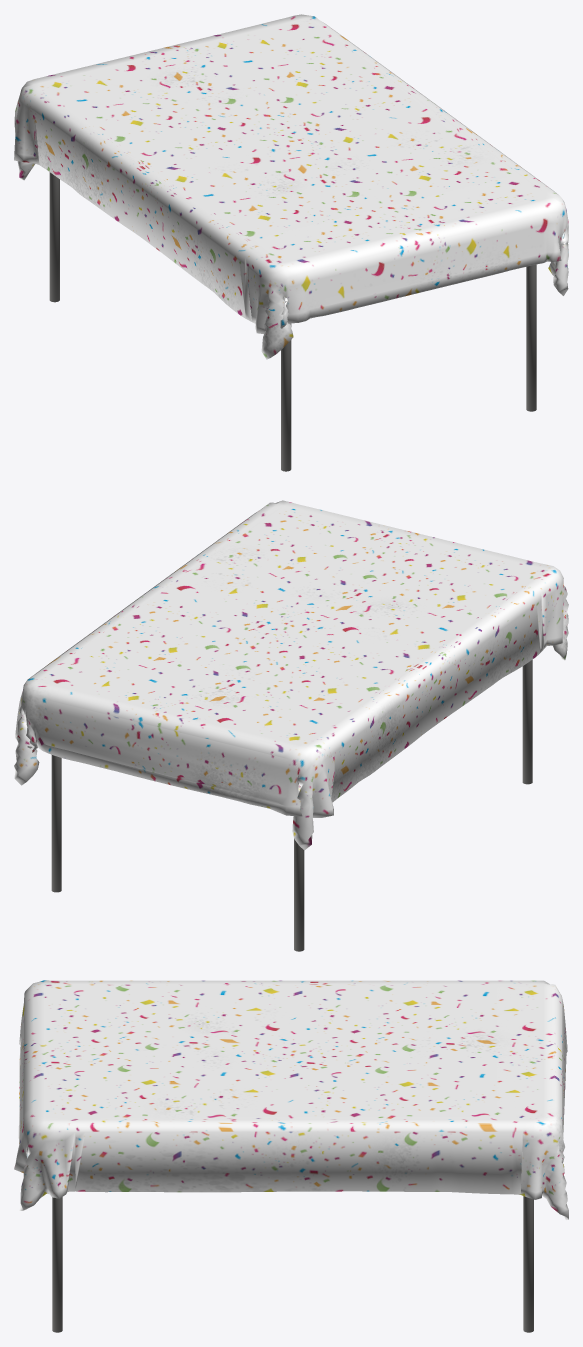
The model's file is table_fnaf.glb.
3 renders of one model, top to bottom at view 1: azimuth 30°, elevation 25°; view 2: azimuth 150°, elevation 25°; view 3: azimuth 270°, elevation 25°, orthographic. The views are drawn at different scales.
Visible parts, largest first — view 1: FNAF Table_FNAF Table Mat_0_4; view 2: FNAF Table_FNAF Table Mat_0_4; view 3: FNAF Table_FNAF Table Mat_0_4.
Boxes of the visible parts, <box> form: FNAF Table_FNAF Table Mat_0_4: <box>14,14,568,471</box>; FNAF Table_FNAF Table Mat_0_4: <box>14,500,568,951</box>; FNAF Table_FNAF Table Mat_0_4: <box>14,980,568,1332</box>.
Bounding box in the file's own units: 1.6 × 1.01 × 2.35.
1 material, 1 textured.
